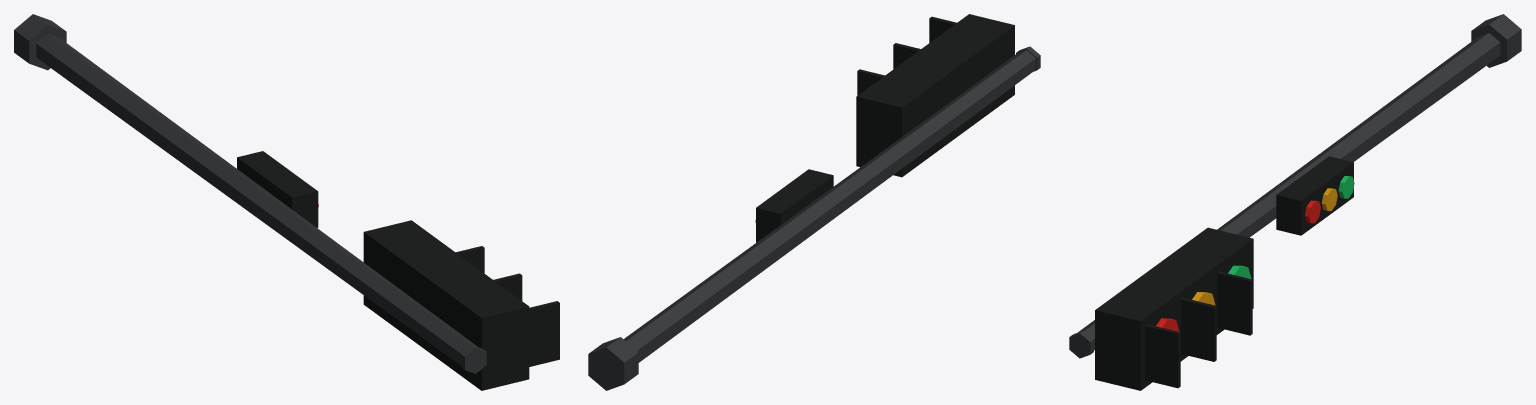
Rendered from traffic-signal-bcn.glb.
The picture shows the model from 3 angles, left to right: view 1: azimuth 30°, elevation 25°; view 2: azimuth 150°, elevation 25°; view 3: azimuth 330°, elevation 25°; orthographic projection. The views are drawn at different scales.
Visible parts, largest first — view 1: traffic-signal-bcn; view 2: traffic-signal-bcn; view 3: traffic-signal-bcn.
Part boxes in pixels (x1=…): traffic-signal-bcn: x1=14, y1=14, x2=559, y2=390; traffic-signal-bcn: x1=588, y1=14, x2=1040, y2=390; traffic-signal-bcn: x1=1069, y1=14, x2=1521, y2=390.
Size of the model in its own units: 0.5166 by 0.32 by 3.53.
